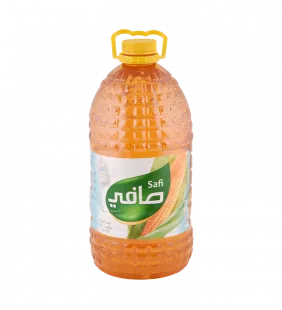SAFI: (83, 20, 204, 284)
